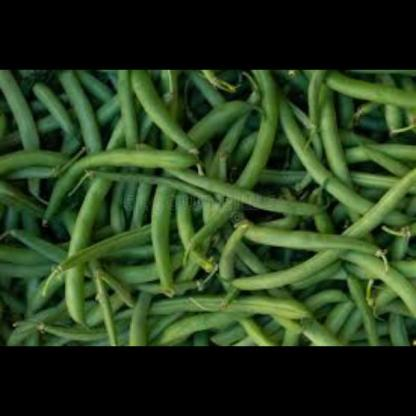beans: (0, 70, 416, 347)
